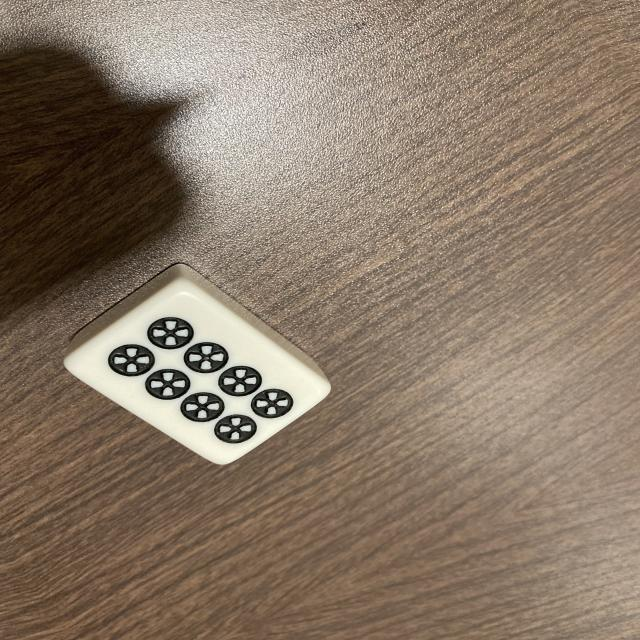t8: (66, 258, 333, 476)
